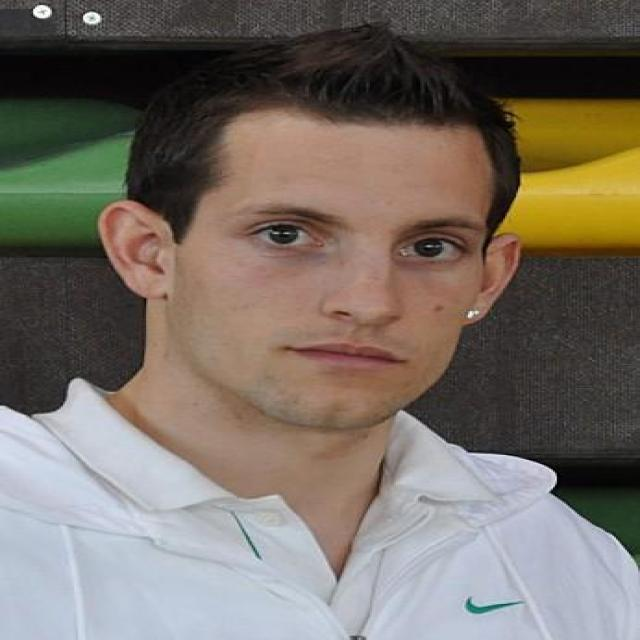0_rostro_limpio: (111, 65, 519, 434)
